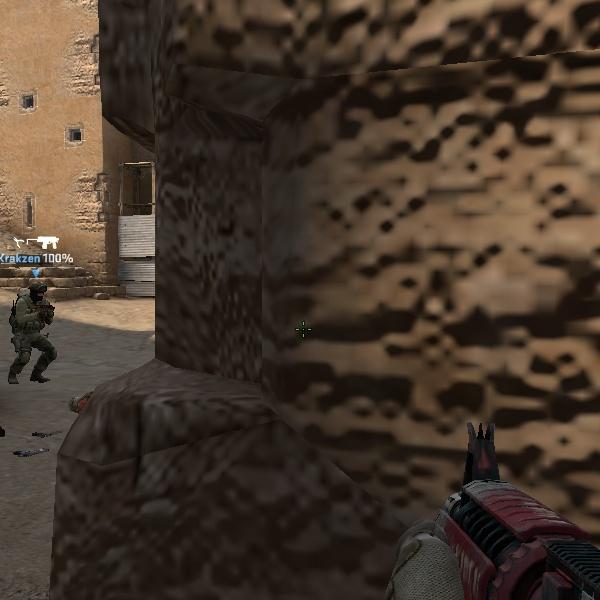ct_body: (6, 271, 69, 386)
ct_head: (25, 278, 54, 306)
